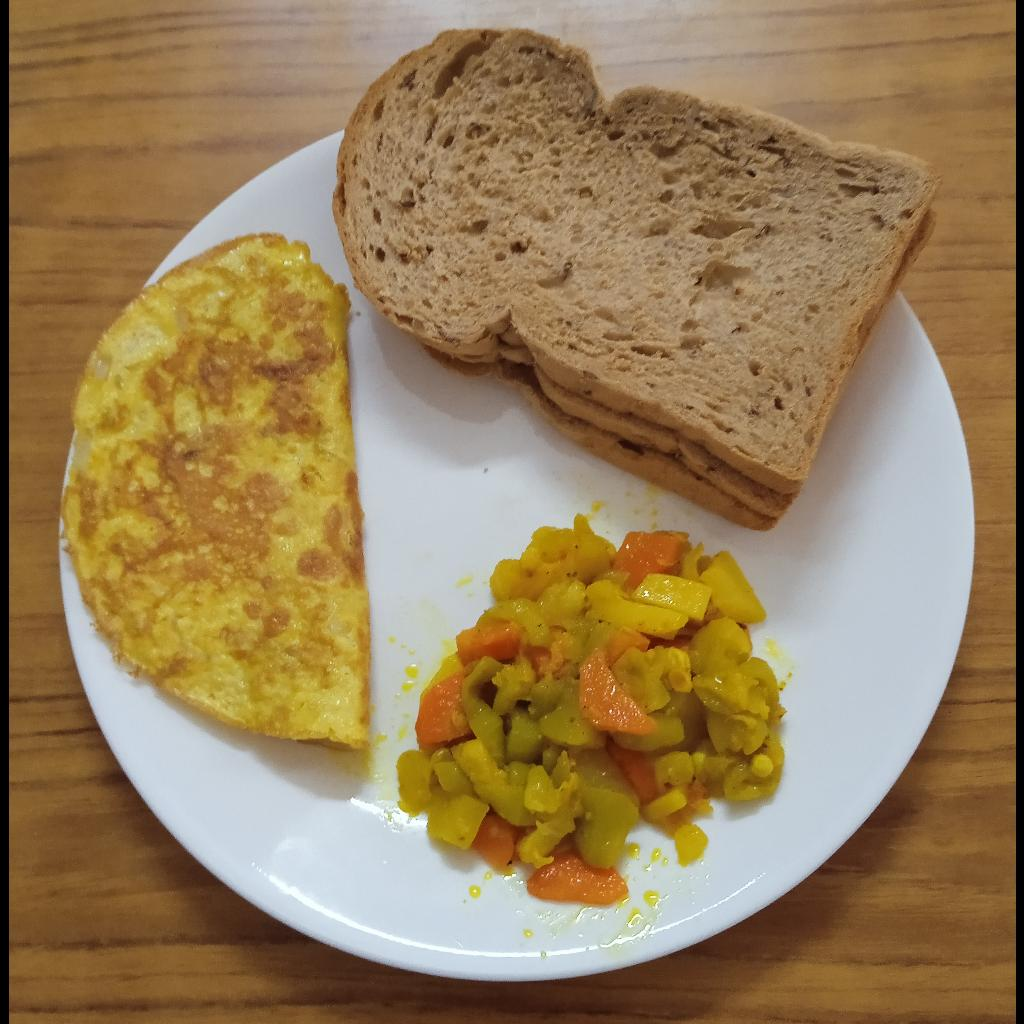bread: (331, 28, 943, 532)
egg: (59, 227, 369, 746)
vegetable: (395, 510, 789, 912)
